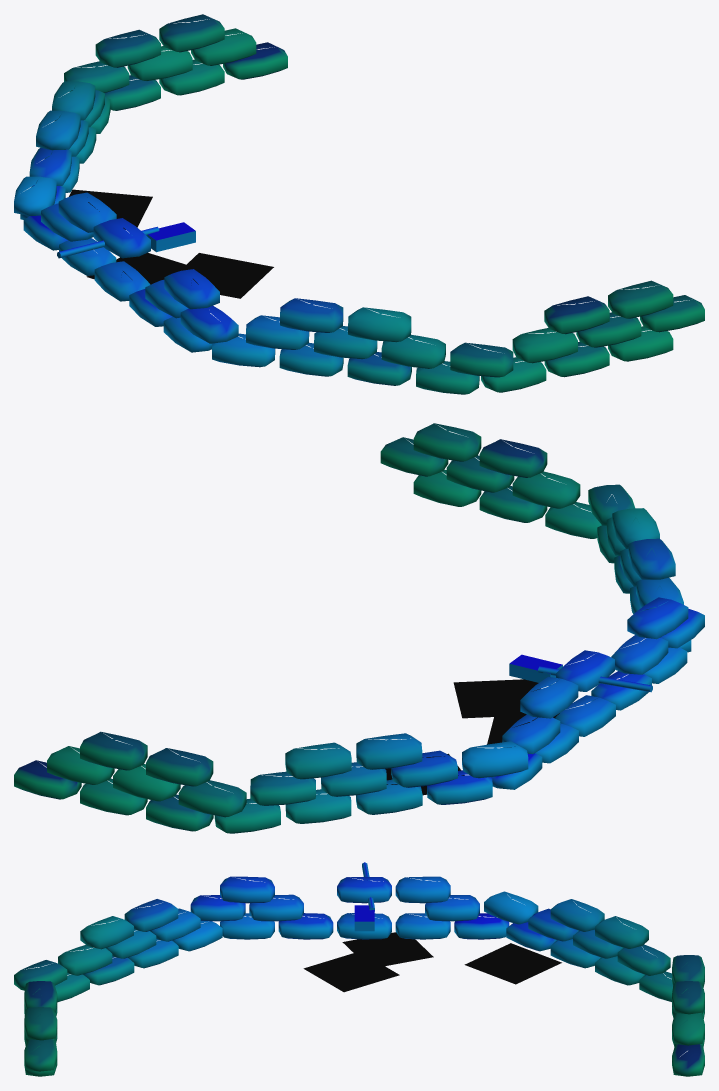
The model's file is sandbagbunker_damaged.glb.
3 renders of one model, top to bottom at view 1: azimuth 30°, elevation 25°; view 2: azimuth 150°, elevation 25°; view 3: azimuth 270°, elevation 25°, orthographic. The views are drawn at different scales.
Visible parts, largest first — view 1: lod0; view 2: lod0; view 3: lod0.
Boxes of the visible parts, left/top/right/bottom form: lod0: left=14, top=14, right=704, bottom=394; lod0: left=14, top=423, right=704, bottom=833; lod0: left=14, top=862, right=704, bottom=1076.
Size of what is drawn, in the model's own units: 5.66 by 0.7869 by 8.96.
